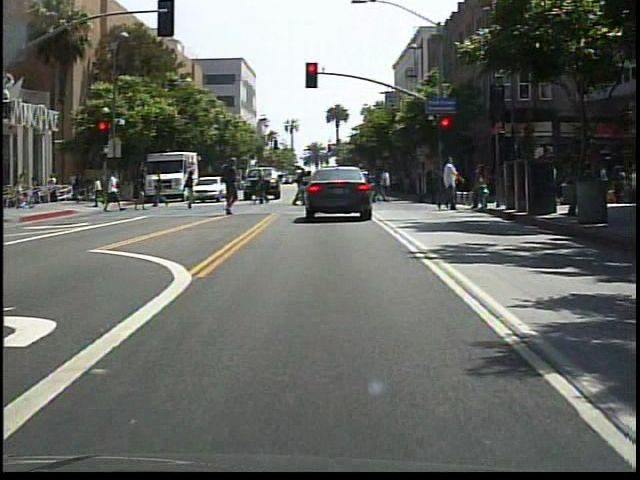person: (218, 157, 247, 223), (435, 155, 467, 213), (102, 170, 126, 221), (347, 166, 369, 218), (181, 168, 203, 213), (151, 170, 169, 211), (255, 169, 271, 207)
